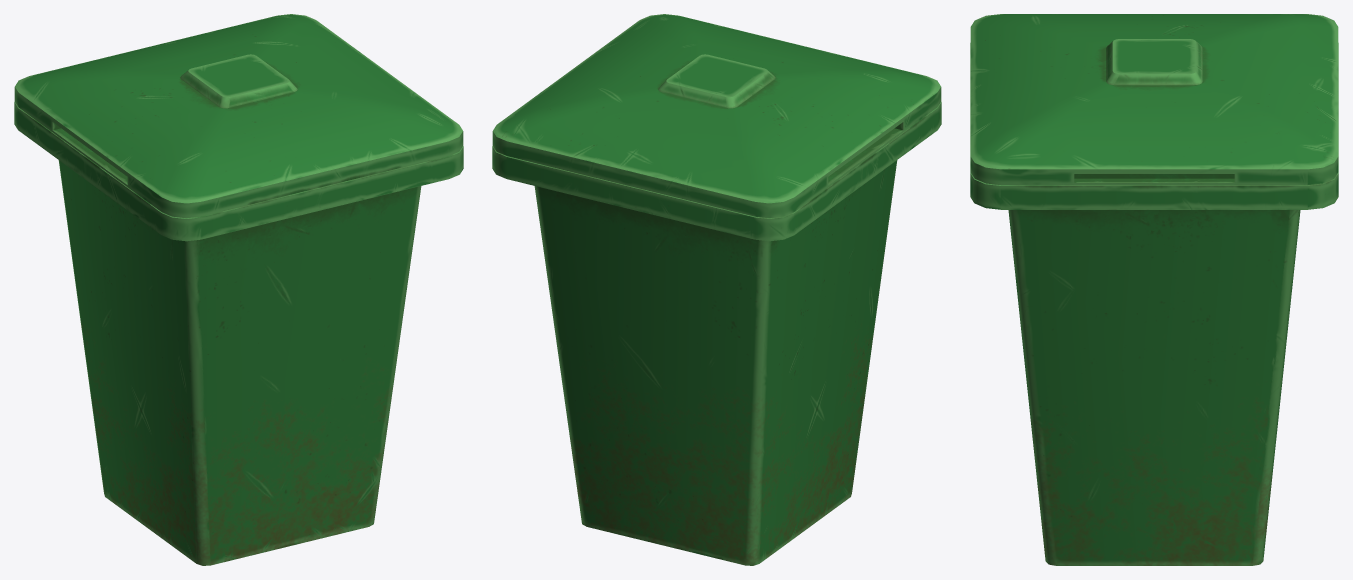
File: Trash.B.fbx
3 renders of one model, left to right at view 1: azimuth 30°, elevation 25°; view 2: azimuth 150°, elevation 25°; view 3: azimuth 270°, elevation 25°, orthographic. The views are drawn at different scales.
Visible parts, largest first — view 1: Trash.B_low; view 2: Trash.B_low; view 3: Trash.B_low.
Part boxes in pixels (left/top/right/bottom): Trash.B_low: left=14, top=14, right=463, bottom=565; Trash.B_low: left=492, top=14, right=941, bottom=565; Trash.B_low: left=970, top=14, right=1338, bottom=565.
Bounding box in the file's own units: 250 × 347 × 250.
Materials: 1 (1 with a texture image).
